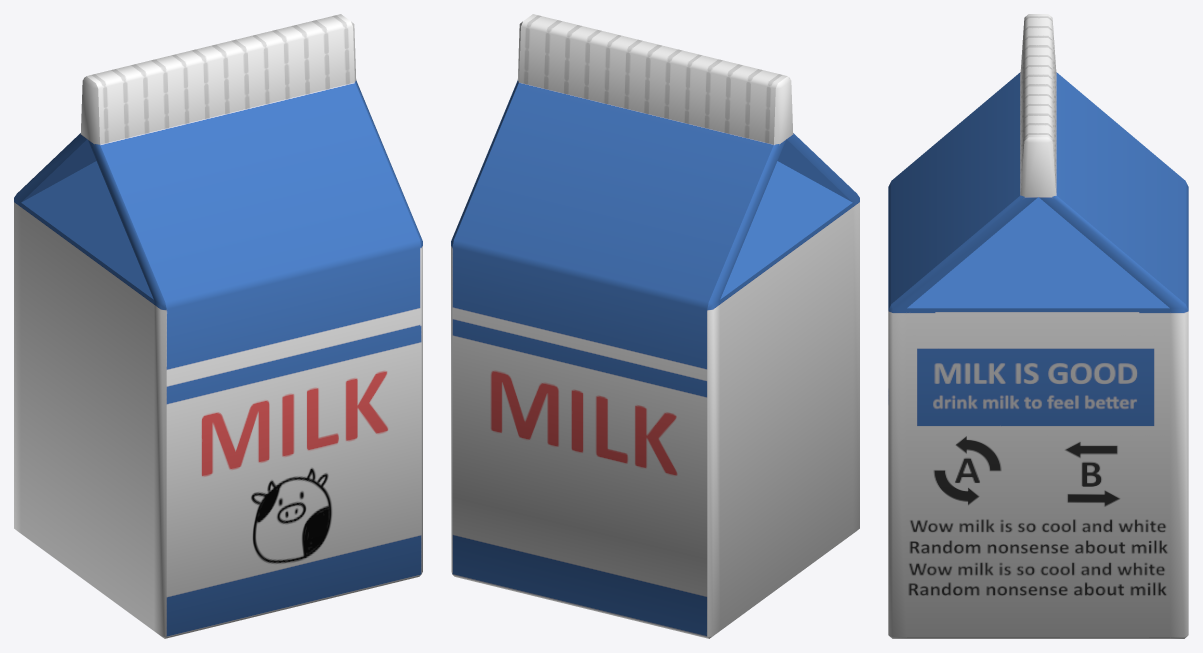
Rendered from MilkCarton.fbx.
3 renders of one model, left to right at view 1: azimuth 30°, elevation 25°; view 2: azimuth 150°, elevation 25°; view 3: azimuth 270°, elevation 25°, orthographic.
Parts seen in each view (by area): view 1: MilkCarton; view 2: MilkCarton; view 3: MilkCarton.
Part boxes in pixels (x1=…): MilkCarton: x1=14, y1=14, x2=422, y2=638; MilkCarton: x1=451, y1=14, x2=859, y2=638; MilkCarton: x1=888, y1=14, x2=1188, y2=638.
Bounding box in the file's own units: 0.4578 × 0.8439 × 0.4578.
